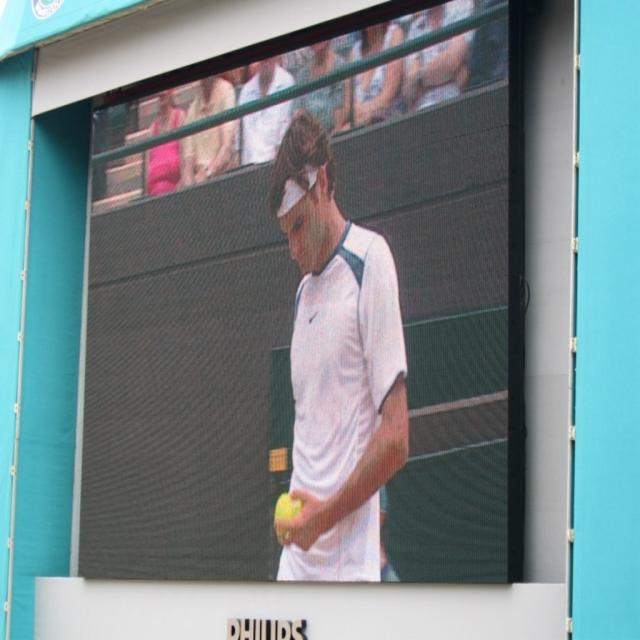Tennis ball: (275, 491, 302, 519)
